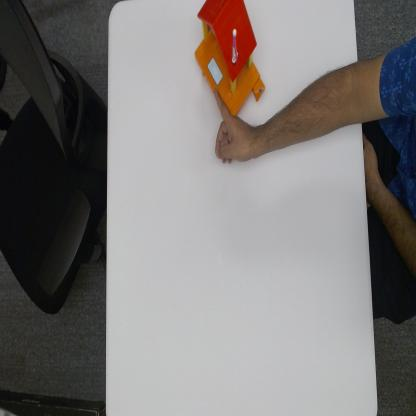Arm: (258, 65, 360, 150)
Hand: (213, 84, 258, 172)
House: (196, 0, 264, 116)
